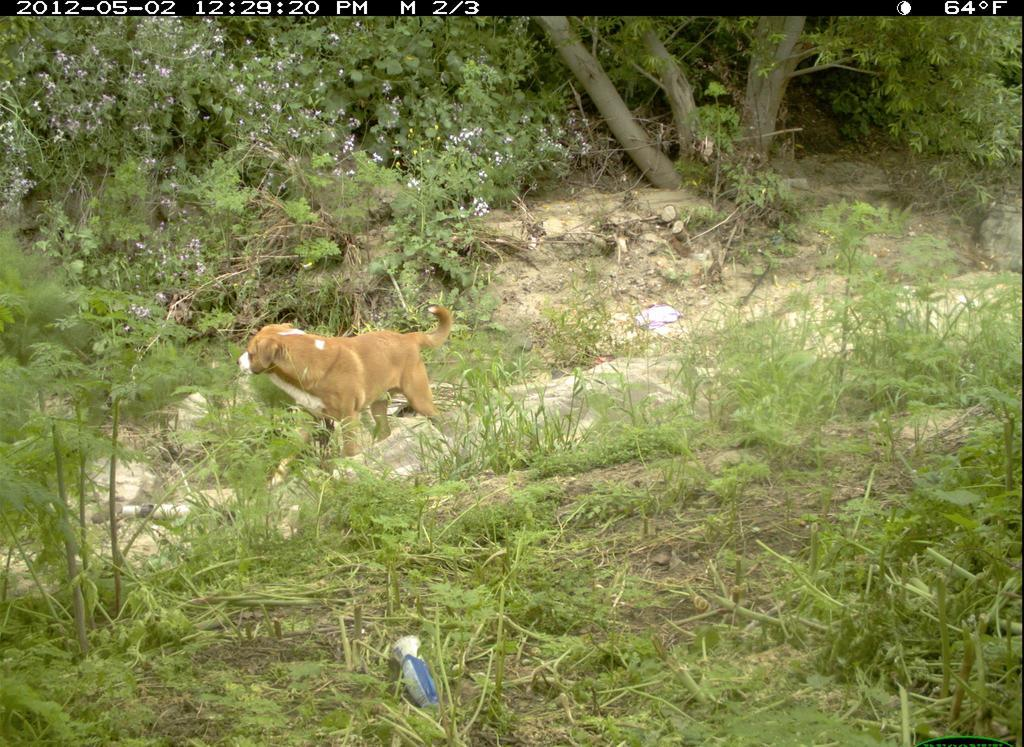dog: (239, 300, 455, 452)
